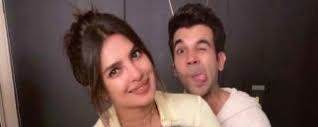Bad: (64, 3, 270, 127)
